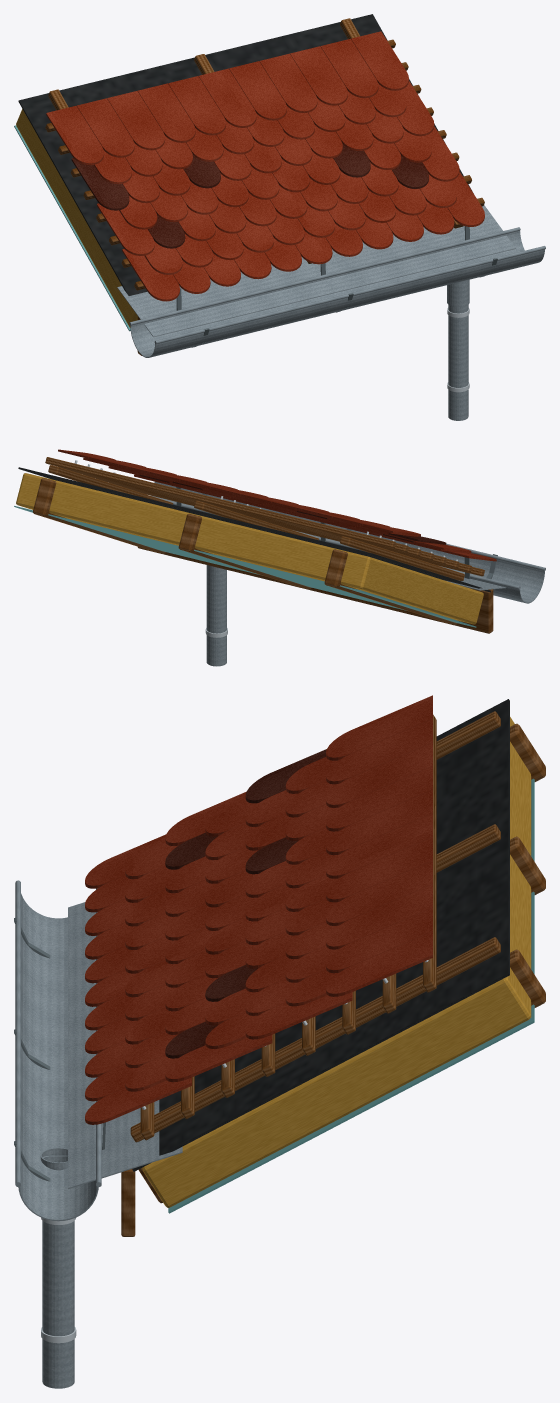
Rendered from modell.glb.
3 renders of one model, top to bottom at view 1: azimuth 30°, elevation 25°; view 2: azimuth 150°, elevation 25°; view 3: azimuth 270°, elevation 25°, orthographic. The views are drawn at different scales.
Parts seen in each view (by area): view 1: s02-deckziegel_deckung, s02-traufblech_zusatzebene, s02-rinne_, s02-zusatzebene_zusatzebene, s02-deckziegel_deckung.001, s02-daemmung_daemmung, s02-fallrohr_, s02-lattung_lattung, s02-luftdichtheit_luftdichtheit, s02-stutzen_; view 2: s02-daemmung_daemmung, s02-lattung_lattung, s02-deckziegel_deckung, s02-rinne_, s02-sparren_tragwerk, s02-luftdichtheit_luftdichtheit, s02-zusatzebene_zusatzebene, s02-fallrohr_, s02-lattung_tragwerk, s02-deckziegel_deckung.001, s02-traufblech_zusatzebene, s02-halter_; view 3: s02-deckziegel_deckung, s02-zusatzebene_zusatzebene, s02-daemmung_daemmung, s02-rinne_, s02-lattung_lattung, s02-traufblech_zusatzebene, s02-deckziegel_deckung.001, s02-fallrohr_, s02-sparren_tragwerk, s02-luftdichtheit_luftdichtheit, s02-lattung_tragwerk.
Boxes of the visible parts, x1,y1,x2,y2 form: s02-deckziegel_deckung: [46, 31, 484, 301]; s02-traufblech_zusatzebene: [117, 205, 515, 337]; s02-rinne_: [129, 227, 545, 357]; s02-zusatzebene_zusatzebene: [18, 14, 473, 295]; s02-deckziegel_deckung.001: [71, 143, 428, 248]; s02-daemmung_daemmung: [16, 109, 137, 327]; s02-fallrohr_: [448, 304, 468, 420]; s02-lattung_lattung: [45, 18, 484, 290]; s02-luftdichtheit_luftdichtheit: [14, 125, 130, 331]; s02-stutzen_: [447, 279, 469, 306]; s02-daemmung_daemmung: [16, 473, 483, 624]; s02-lattung_lattung: [45, 457, 484, 580]; s02-deckziegel_deckung: [58, 449, 496, 561]; s02-rinne_: [151, 481, 545, 603]; s02-sparren_tragwerk: [33, 478, 457, 624]; s02-luftdichtheit_luftdichtheit: [14, 506, 476, 627]; s02-zusatzebene_zusatzebene: [18, 467, 491, 592]; s02-fallrohr_: [206, 565, 226, 666]; s02-lattung_tragwerk: [138, 547, 493, 633]; s02-deckziegel_deckung.001: [139, 474, 446, 544]; s02-traufblech_zusatzebene: [447, 577, 506, 590]; s02-halter_: [176, 487, 497, 579]; s02-deckziegel_deckung: [85, 695, 432, 1124]; s02-zusatzebene_zusatzebene: [132, 699, 509, 1171]; s02-daemmung_daemmung: [142, 717, 531, 1207]; s02-rinne_: [15, 880, 101, 1221]; s02-lattung_lattung: [130, 711, 500, 1142]; s02-traufblech_zusatzebene: [68, 902, 182, 1189]; s02-deckziegel_deckung.001: [165, 749, 326, 1058]; s02-fallrohr_: [42, 1221, 74, 1388]; s02-sparren_tragwerk: [138, 723, 545, 1203]; s02-luftdichtheit_luftdichtheit: [168, 778, 534, 1213]; s02-lattung_tragwerk: [121, 1169, 135, 1236].
Size of the model in its own units: 2.3 by 1.64 by 1.71.
Materials: 9 (6 with a texture image).
